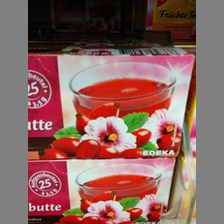tea: (27, 42, 193, 160)
